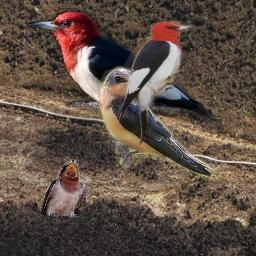Swallow: (98, 62, 224, 182), (41, 159, 87, 220)
Woodpecker: (23, 8, 223, 128), (117, 21, 194, 145)
